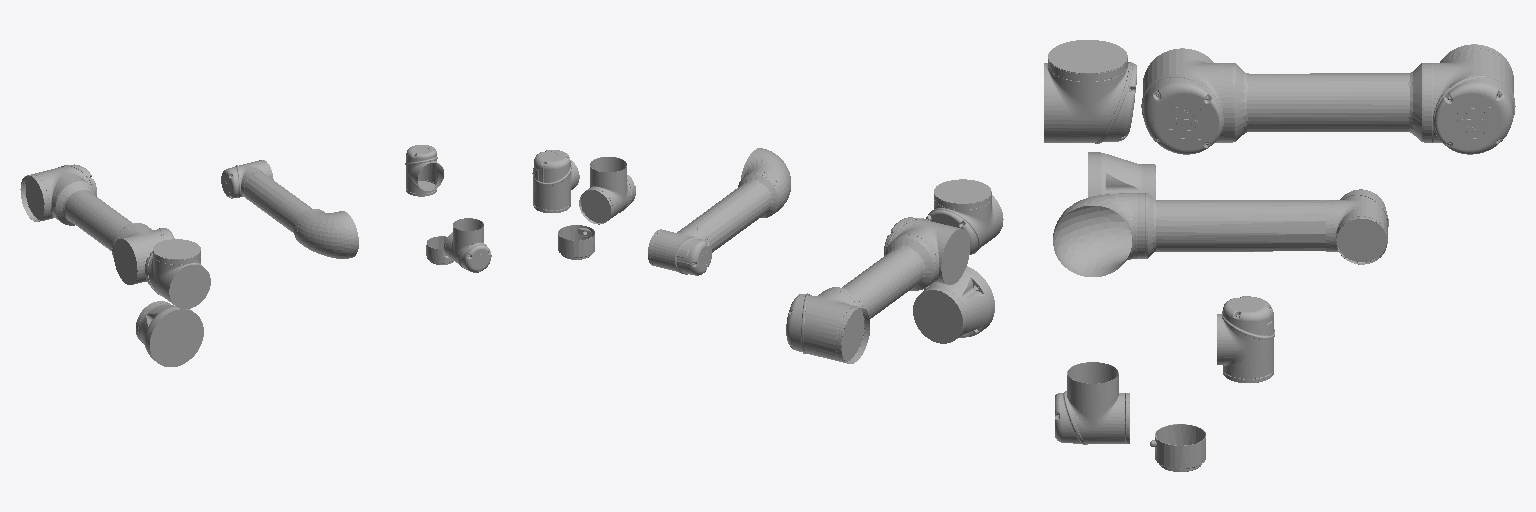
The robot description file, URDF, robot "UniversalRobots_UR5e":
<?xml version="1.0" ?>
<robot name="UniversalRobots_UR5e" xmlns:xacro="http://ros.org/wiki/xacro">
  <link name="base_link">
    <visual>
      <geometry>
        <mesh filename="package://UR5e/visual/base.dae"/>
      </geometry>
      <material name="LightGrey">
        <color rgba="0.7 0.7 0.7 1.0"/>
      </material>
    </visual>
    <collision>
      <geometry>
        <mesh filename="package://UR5e/collision/base.stl"/>
      </geometry>
    </collision>
    <inertial>
      <mass value="4.0"/>
      <origin rpy="0 0 0" xyz="0.0 0.0 0.0"/>
      <inertia ixx="0.00443333156" ixy="0.0" ixz="0.0" iyy="0.00443333156" iyz="0.0" izz="0.0072"/>
    </inertial>
  </link>
  <joint name="Joint1" type="revolute">
    <parent link="base_link"/>
    <child link="shoulder_link"/>
    <origin rpy="0.0 0.0 0.0" xyz="0.0 0.0 0.163"/>
    <axis xyz="0 0 1"/>
    <limit effort="150.0" lower="-6.28318530718" upper="6.28318530718" velocity="3.14"/>
    <dynamics damping="0.0" friction="0.0"/>
  </joint>
  <link name="shoulder_link">
    <visual>
      <geometry>
        <mesh filename="package://UR5e/visual/shoulder.dae"/>
      </geometry>
      <material name="LightGrey">
        <color rgba="0.7 0.7 0.7 1.0"/>
      </material>
    </visual>
    <collision>
      <geometry>
        <mesh filename="package://UR5e/collision/shoulder.stl"/>
      </geometry>
    </collision>
    <inertial>
      <mass value="3.7"/>
      <origin rpy="0 0 0" xyz="0.0 0.0 0.0"/>
      <inertia ixx="0.010267495893" ixy="0.0" ixz="0.0" iyy="0.010267495893" iyz="0.0" izz="0.00666"/>
    </inertial>
  </link>
  <joint name="Joint2" type="revolute">
    <parent link="shoulder_link"/>
    <child link="upper_arm_link"/>
    <origin rpy="0.0 1.57079632679 0.0" xyz="0.0 0.138 0.0"/>
    <axis xyz="0 1 0"/>
    <limit effort="150.0" lower="-6.28318530718" upper="6.28318530718" velocity="3.14"/>
    <dynamics damping="0.0" friction="0.0"/>
  </joint>
  <link name="upper_arm_link">
    <visual>
      <geometry>
        <mesh filename="package://UR5e/visual/upperarm.dae"/>
      </geometry>
      <material name="LightGrey">
        <color rgba="0.7 0.7 0.7 1.0"/>
      </material>
    </visual>
    <collision>
      <geometry>
        <mesh filename="package://UR5e/collision/upperarm.stl"/>
      </geometry>
    </collision>
    <inertial>
      <mass value="8.393"/>
      <origin rpy="0 0 0" xyz="0.0 0.0 0.2125"/>
      <inertia ixx="0.133885781862" ixy="0.0" ixz="0.0" iyy="0.133885781862" iyz="0.0" izz="0.0151074"/>
    </inertial>
  </link>
  <joint name="Joint3" type="revolute">
    <parent link="upper_arm_link"/>
    <child link="forearm_link"/>
    <origin rpy="0.0 0.0 0.0" xyz="0.0 -0.131 0.425"/>
    <axis xyz="0 1 0"/>
    <limit effort="150.0" lower="-3.14159265359" upper="3.14159265359" velocity="3.14"/>
    <dynamics damping="0.0" friction="0.0"/>
  </joint>
  <link name="forearm_link">
    <visual>
      <geometry>
        <mesh filename="package://UR5e/visual/forearm.dae"/>
      </geometry>
      <material name="LightGrey">
        <color rgba="0.7 0.7 0.7 1.0"/>
      </material>
    </visual>
    <collision>
      <geometry>
        <mesh filename="package://UR5e/collision/forearm.stl"/>
      </geometry>
    </collision>
    <inertial>
      <mass value="2.275"/>
      <origin rpy="0 0 0" xyz="0.0 0.0 0.196"/>
      <inertia ixx="0.0311796208615" ixy="0.0" ixz="0.0" iyy="0.0311796208615" iyz="0.0" izz="0.004095"/>
    </inertial>
  </link>
  <joint name="Joint4" type="revolute">
    <parent link="forearm_link"/>
    <child link="wrist_1_link"/>
    <origin rpy="0.0 1.57079632679 0.0" xyz="0.0 0.0 0.392"/>
    <axis xyz="0 1 0"/>
    <limit effort="28.0" lower="-6.28318530718" upper="6.28318530718" velocity="6.28"/>
    <dynamics damping="0.0" friction="0.0"/>
  </joint>
  <link name="wrist_1_link">
    <visual>
      <geometry>
        <mesh filename="package://UR5e/visual/wrist1.dae"/>
      </geometry>
      <material name="LightGrey">
        <color rgba="0.7 0.7 0.7 1.0"/>
      </material>
    </visual>
    <collision>
      <geometry>
        <mesh filename="package://UR5e/collision/wrist1.stl"/>
      </geometry>
    </collision>
    <inertial>
      <mass value="1.219"/>
      <origin rpy="0 0 0" xyz="0.0 0.127 0.0"/>
      <inertia ixx="0.00255989897604" ixy="0.0" ixz="0.0" iyy="0.00255989897604" iyz="0.0" izz="0.0021942"/>
    </inertial>
  </link>
  <joint name="Joint5" type="revolute">
    <parent link="wrist_1_link"/>
    <child link="wrist_2_link"/>
    <origin rpy="0.0 0.0 0.0" xyz="0.0 0.127 0.0"/>
    <axis xyz="0 0 1"/>
    <limit effort="28.0" lower="-6.28318530718" upper="6.28318530718" velocity="6.28"/>
    <dynamics damping="0.0" friction="0.0"/>
  </joint>
  <link name="wrist_2_link">
    <visual>
      <geometry>
        <mesh filename="package://UR5e/visual/wrist2.dae"/>
      </geometry>
      <material name="LightGrey">
        <color rgba="0.7 0.7 0.7 1.0"/>
      </material>
    </visual>
    <collision>
      <geometry>
        <mesh filename="package://UR5e/collision/wrist2.stl"/>
      </geometry>
    </collision>
    <inertial>
      <mass value="1.219"/>
      <origin rpy="0 0 0" xyz="0.0 0.0 0.1"/>
      <inertia ixx="0.00255989897604" ixy="0.0" ixz="0.0" iyy="0.00255989897604" iyz="0.0" izz="0.0021942"/>
    </inertial>
  </link>
  <joint name="Joint6" type="revolute">
    <parent link="wrist_2_link"/>
    <child link="wrist_3_link"/>
    <origin rpy="0.0 0.0 0.0" xyz="0.0 0.0 0.1"/>
    <axis xyz="0 1 0"/>
    <limit effort="28.0" lower="-6.28318530718" upper="6.28318530718" velocity="6.28"/>
    <dynamics damping="0.0" friction="0.0"/>
  </joint>
  <link name="wrist_3_link">
    <visual>
      <geometry>
        <mesh filename="package://UR5e/visual/wrist3.dae"/>
      </geometry>
      <material name="LightGrey">
        <color rgba="0.7 0.7 0.7 1.0"/>
      </material>
    </visual>
    <collision>
      <geometry>
        <mesh filename="package://UR5e/collision/wrist3.stl"/>
      </geometry>
    </collision>
    <inertial>
      <mass value="0.1879"/>
      <origin rpy="1.57079632679 0 0" xyz="0.0 0.0771 0.0"/>
      <inertia ixx="9.89041005217e-05" ixy="0.0" ixz="0.0" iyy="9.89041005217e-05" iyz="0.0" izz="0.0001321171875"/>
    </inertial>
  </link>
  <joint name="JointEffector" type="fixed">
    <parent link="wrist_3_link"/>
    <child link="ee_link"/>
    <origin rpy="0.0 0.0 1.57079632679" xyz="0.0 0.092 0.0"/>
  </joint>
    <link name="ee_link">
    <collision>
      <geometry>
        <box size="0.01 0.01 0.01"/>
      </geometry>
      <origin rpy="0 0 0" xyz="-0.01 0 0"/>
    </collision>
  </link>
  <chain_pair>
    <base name="Joint1"/>
    <end name="JointEffector"/>
  </chain_pair>
</robot>

--- Facts derived from the render (not from the file) ---
3 views of the same robot in one strip: view 1: azimuth 30°, elevation 25°; view 2: azimuth 150°, elevation 25°; view 3: azimuth 270°, elevation 25° (orthographic).
Model UniversalRobots_UR5e with 8 links and 7 joints (6 revolute, 1 fixed), rooted at base_link, posed every joint at zero.
Links seen in each view (by area): view 1: upper_arm_link, forearm_link, shoulder_link, base_link, wrist_1_link, wrist_2_link, wrist_3_link; view 2: upper_arm_link, forearm_link, base_link, shoulder_link, wrist_1_link, wrist_2_link, wrist_3_link; view 3: upper_arm_link, forearm_link, shoulder_link, wrist_1_link, wrist_2_link, base_link, wrist_3_link.
Link boxes in pixels (<box>): upper_arm_link: <box>20,164,174,284</box>; forearm_link: <box>221,160,358,258</box>; shoulder_link: <box>145,239,210,308</box>; base_link: <box>136,301,203,366</box>; wrist_1_link: <box>444,218,491,272</box>; wrist_2_link: <box>405,145,443,196</box>; wrist_3_link: <box>426,236,453,264</box>; upper_arm_link: <box>786,217,969,363</box>; forearm_link: <box>648,148,790,275</box>; base_link: <box>913,266,994,343</box>; shoulder_link: <box>926,179,1003,254</box>; wrist_1_link: <box>579,157,635,224</box>; wrist_2_link: <box>532,150,579,212</box>; wrist_3_link: <box>558,225,594,259</box>; upper_arm_link: <box>1141,44,1515,154</box>; forearm_link: <box>1053,189,1388,276</box>; shoulder_link: <box>1044,40,1136,143</box>; wrist_1_link: <box>1055,362,1129,444</box>; wrist_2_link: <box>1217,296,1274,382</box>; base_link: <box>1088,152,1155,199</box>; wrist_3_link: <box>1150,424,1205,471</box>.
Size in the robot's own frame: 0.9342 by 0.6865 by 0.3129 metres.
Meshes: 7 distinct files referenced, 7 mesh visuals loaded (7 Collada DAE).